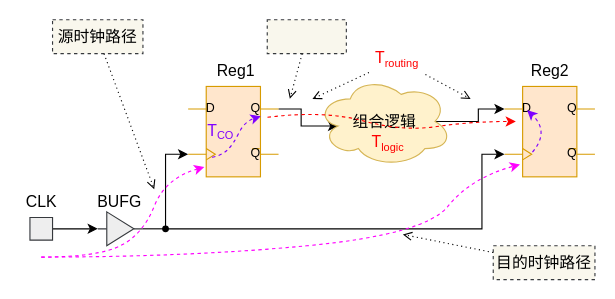
The diagram is 615 pixels wide and 299 high, and some of its shapes have lost their labels. The shapes that lost their labels are listed below. From the top down, each one's centre as x and y in pixels, then its label:
point (306, 36): 数据路径
point (549, 131): T SU
